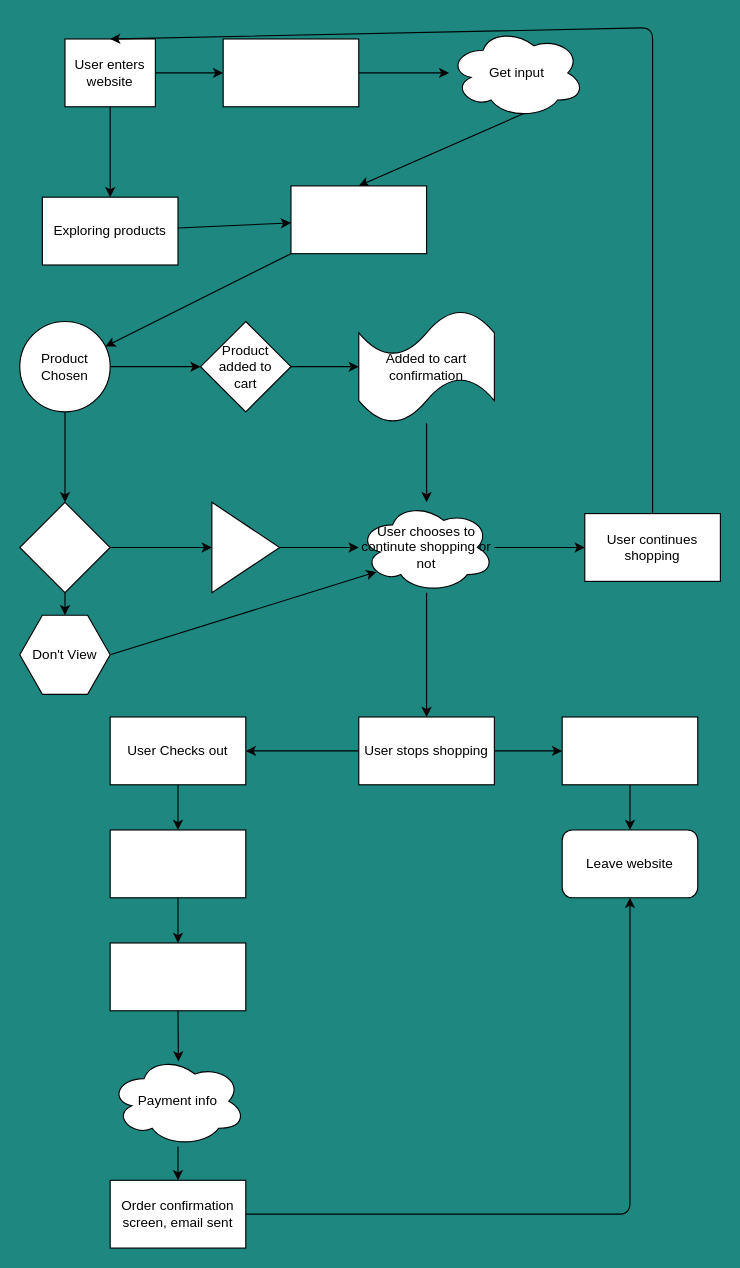
This 740x1268 diagram has some shape labels left out. Here are the shapes that lost their labels. From the top down, the box of each, then its label:
(222, 38, 359, 107): Product search
(290, 185, 427, 254): User browses
(19, 501, 110, 593): View Product
(211, 501, 280, 593): Open product webpage
(561, 716, 698, 785): User doesn't check out
(109, 829, 246, 898): View Cart
(109, 942, 246, 1011): View Payment
